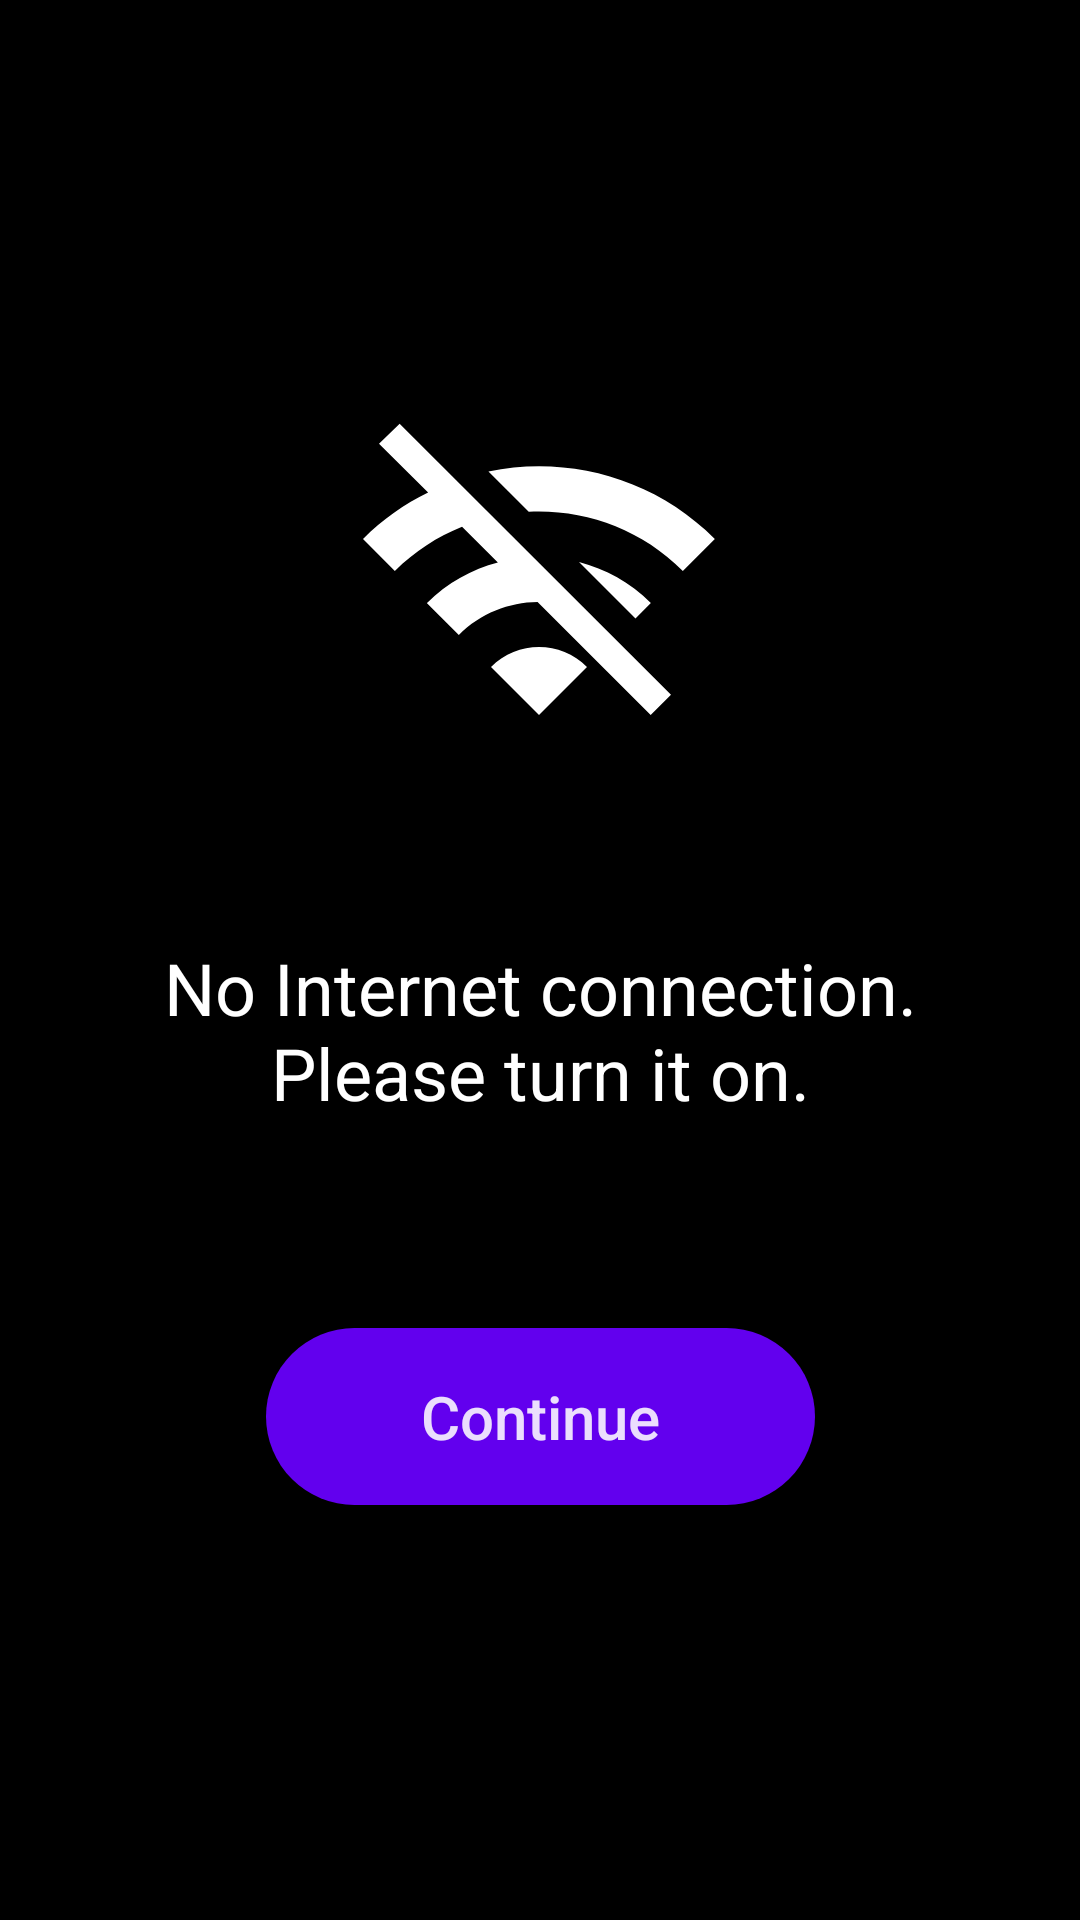

Icon bounding boxes for this 1080 x 1920 phone screenshot, format (x1, y1, x2, y2):
wifi off: (363, 424, 715, 715)
